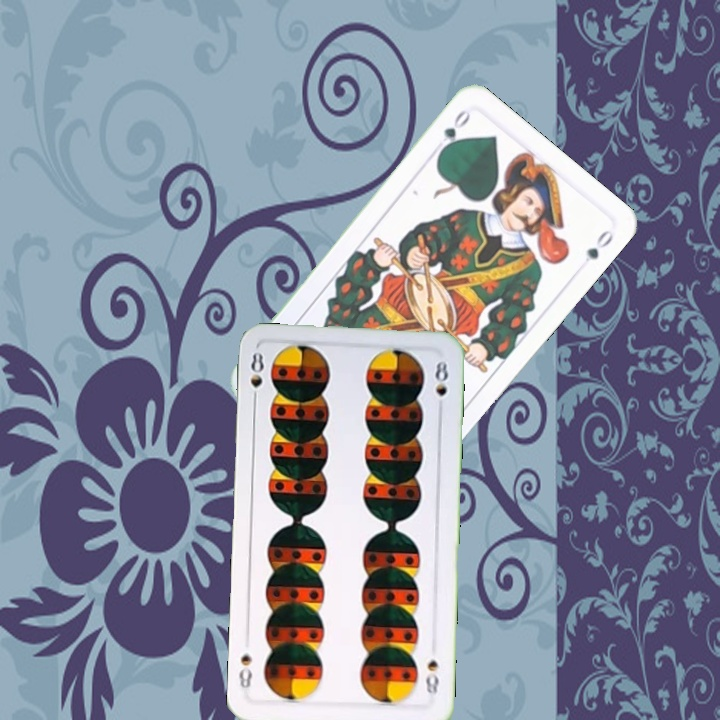GO: (435, 104, 474, 158)
S8: (246, 349, 267, 407), (421, 655, 442, 697)
